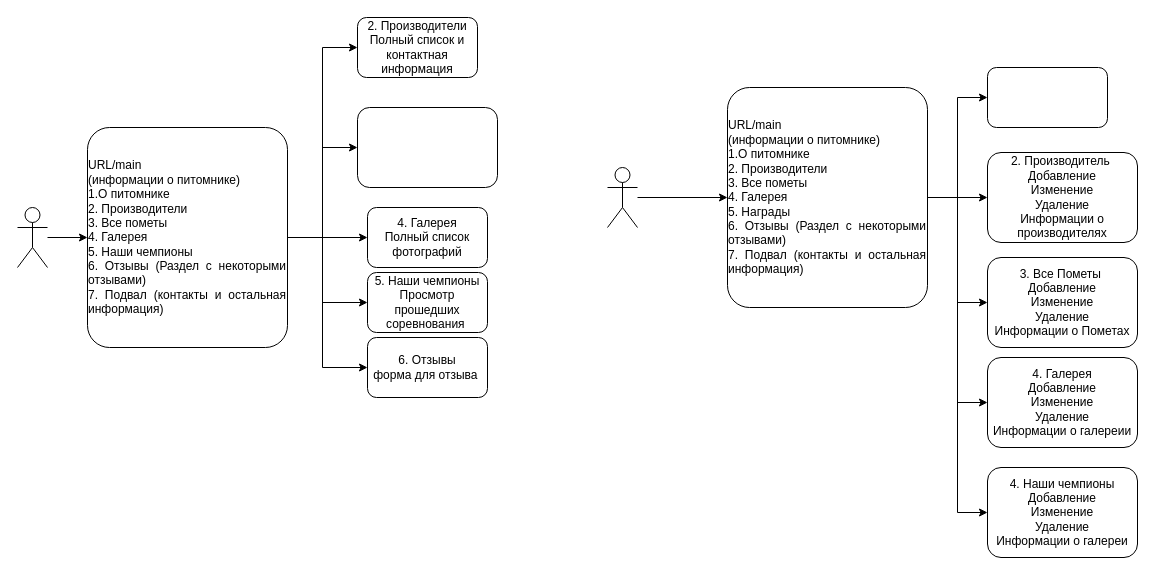
Some shapes in this 1155 by 575 pixel diagram are drawn without their labels. The shapes that lost their labels are listed below. From the top down, each one's box as (x1, y1, x2, y2) in pixels, then its label:
(986, 66, 1108, 128): 1. Изменение информации о питомнике
(356, 106, 498, 188): 3. Все пометы Готовые к продаже Доступные В наличии Будющее
(606, 166, 638, 228): Admin
(16, 206, 48, 268): User
